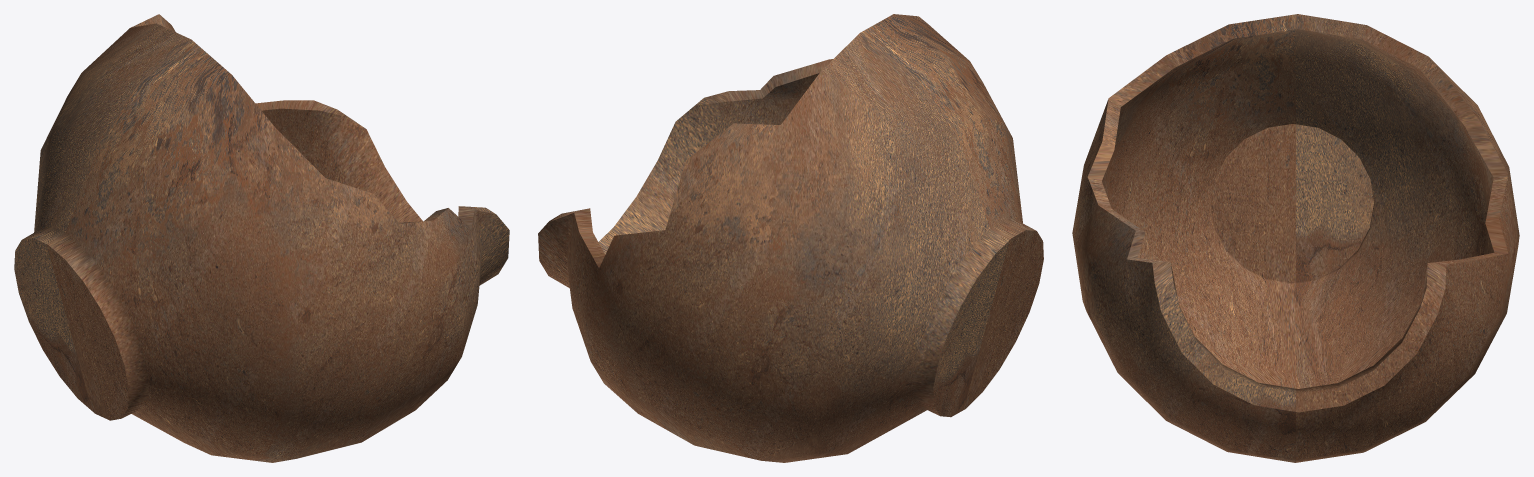
Rendered from Jar3.fbx.
3 views of the same model, side by side, from view 1: azimuth 30°, elevation 25°; view 2: azimuth 150°, elevation 25°; view 3: azimuth 270°, elevation 25° (orthographic). The views are drawn at different scales.
Parts seen in each view (by area): view 1: pCylinder3; view 2: pCylinder3; view 3: pCylinder3.
Boxes of the visible parts, x1,y1,x2,y2 form: pCylinder3: (14, 14, 509, 462); pCylinder3: (538, 14, 1043, 462); pCylinder3: (1072, 14, 1519, 462).
Bounding box in the file's own units: 9.06 × 8.75 × 9.02.
1 material, 1 textured.
